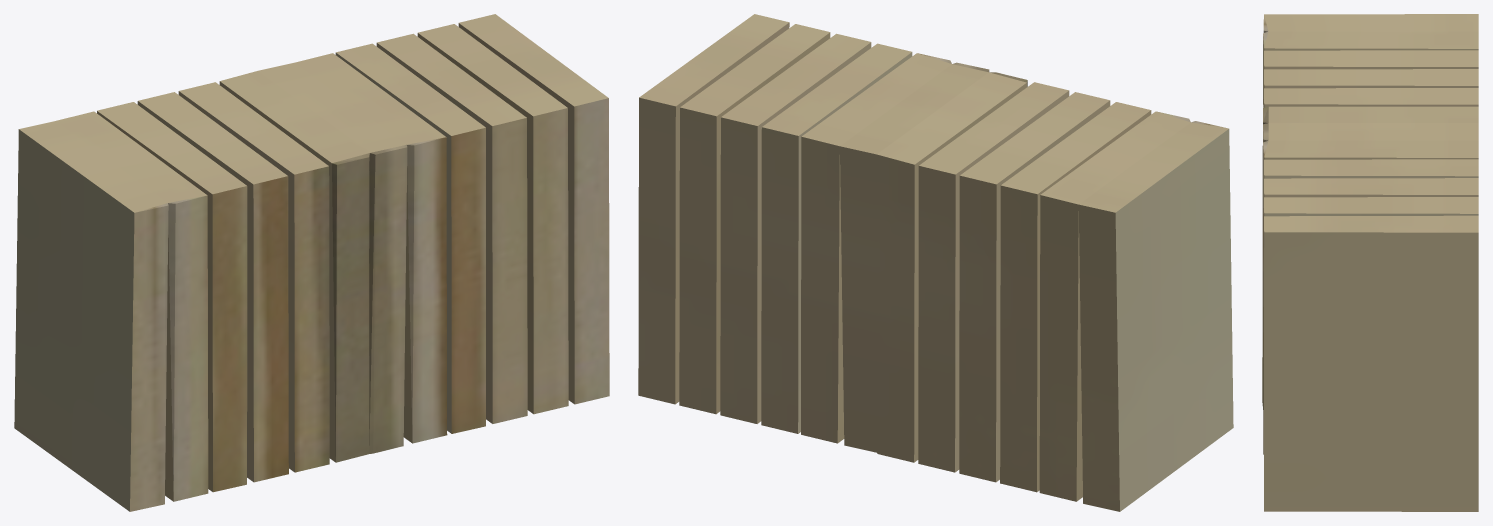
Rendered from book1_v7.dae.
3 views of the same model, side by side, from view 1: azimuth 30°, elevation 25°; view 2: azimuth 150°, elevation 25°; view 3: azimuth 270°, elevation 25° (orthographic). The views are drawn at different scales.
Visible parts, largest first — view 1: node; view 2: node; view 3: node.
Boxes of the visible parts, <box> form: node: <box>14,14,609,511</box>; node: <box>638,14,1233,511</box>; node: <box>1262,14,1478,511</box>.
Size of the model in its own units: 0.2903 by 0.1725 by 0.1206.
1 material, 1 textured.
